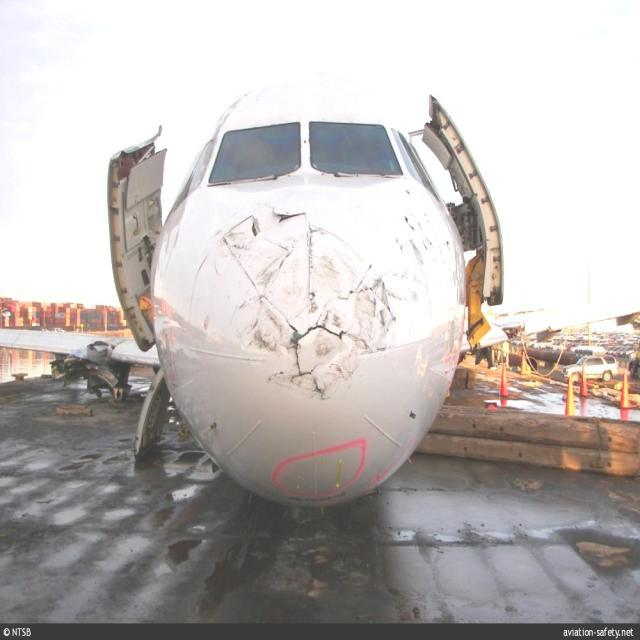crack: (196, 208, 404, 414)
